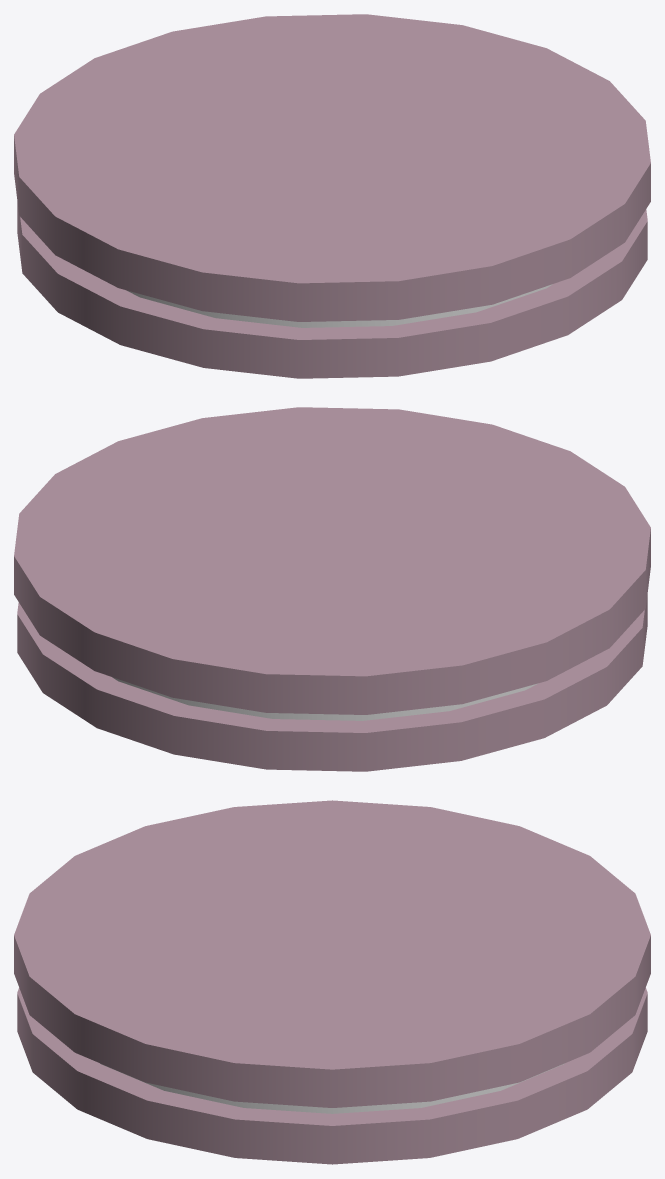
Rendered from bottom.fbx.
3 renders of one model, top to bottom at view 1: azimuth 30°, elevation 25°; view 2: azimuth 150°, elevation 25°; view 3: azimuth 270°, elevation 25°, orthographic.
Parts seen in each view (by area): view 1: polySurface4; view 2: polySurface4; view 3: polySurface4.
Boxes of the visible parts, box(x1,y1,x2,y2) form: polySurface4: box(14, 14, 650, 378); polySurface4: box(14, 407, 650, 771); polySurface4: box(14, 800, 650, 1164).
Size of the model in its own units: 30 by 5 by 30.
